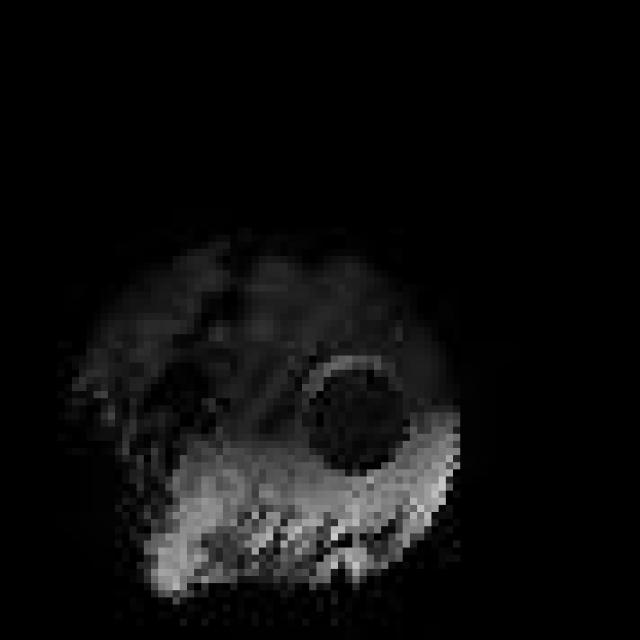Death Star: (58, 220, 468, 612)
